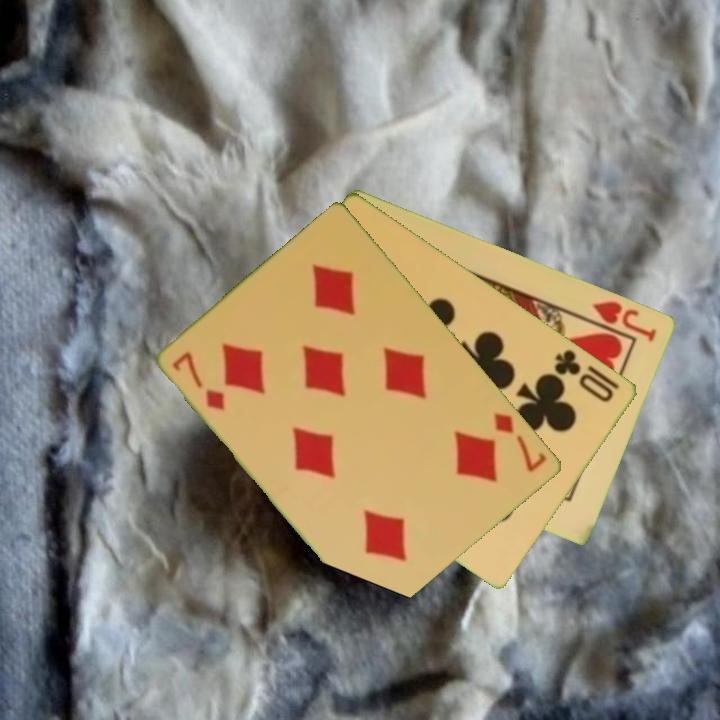10c: (551, 345, 618, 405)
7d: (490, 408, 551, 475), (169, 348, 229, 414)
Jh: (589, 297, 660, 344)
